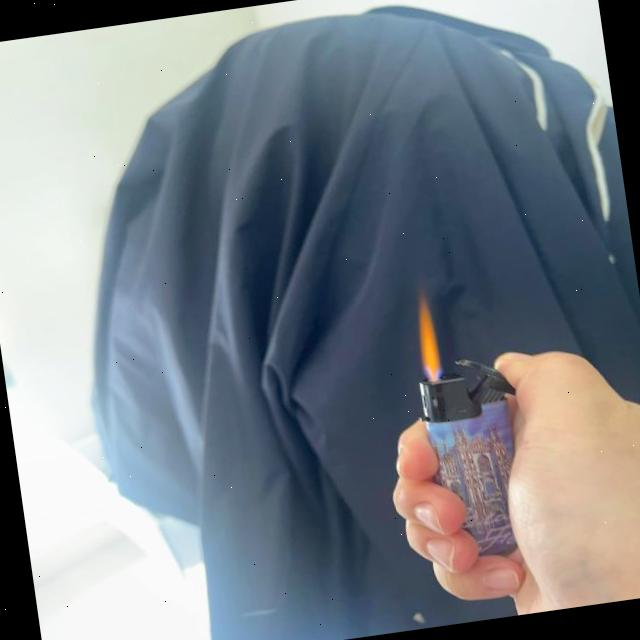fire: (412, 296, 445, 376)
